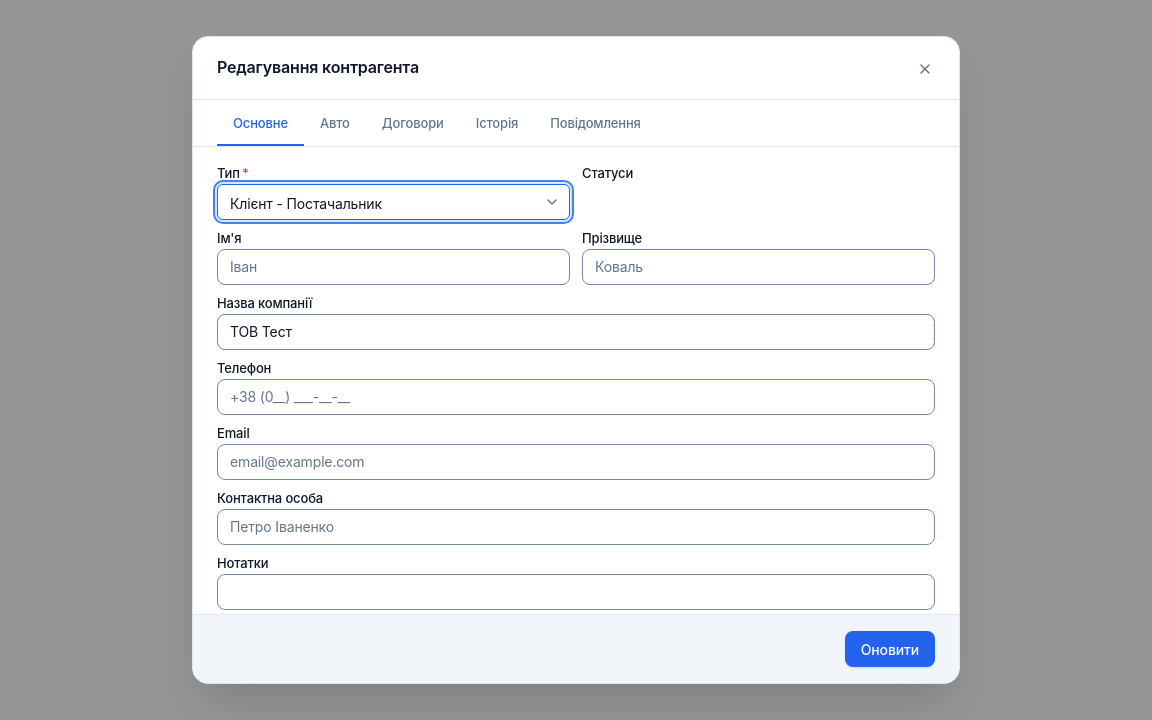
Test case: CounterpartyEditModal — «Вид договору» за типом контрагента (BR-CP-005) › BOTH → порожній placeholder + обидва види; без вибору «Зберегти» заблокована
Click the button "Договори" at (413, 125), box [366,104,460,146]
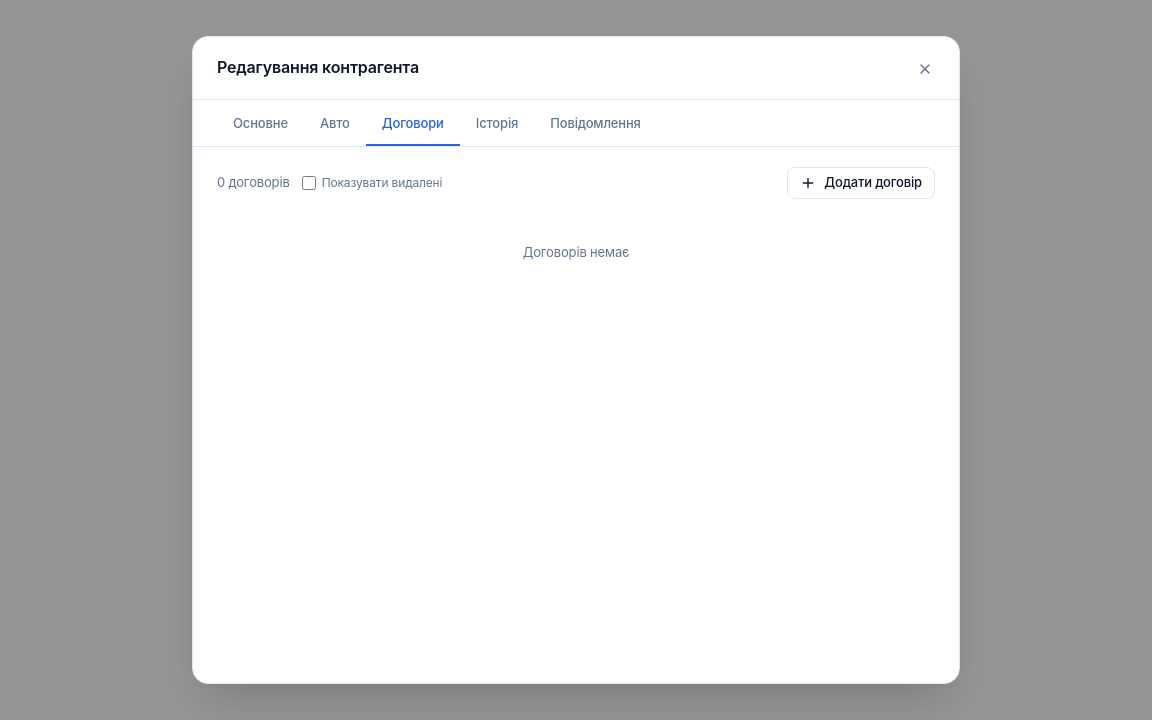
Expected: the button "Додати договір" is shown
Click the button "Додати договір" at (861, 182), box [787,166,935,198]
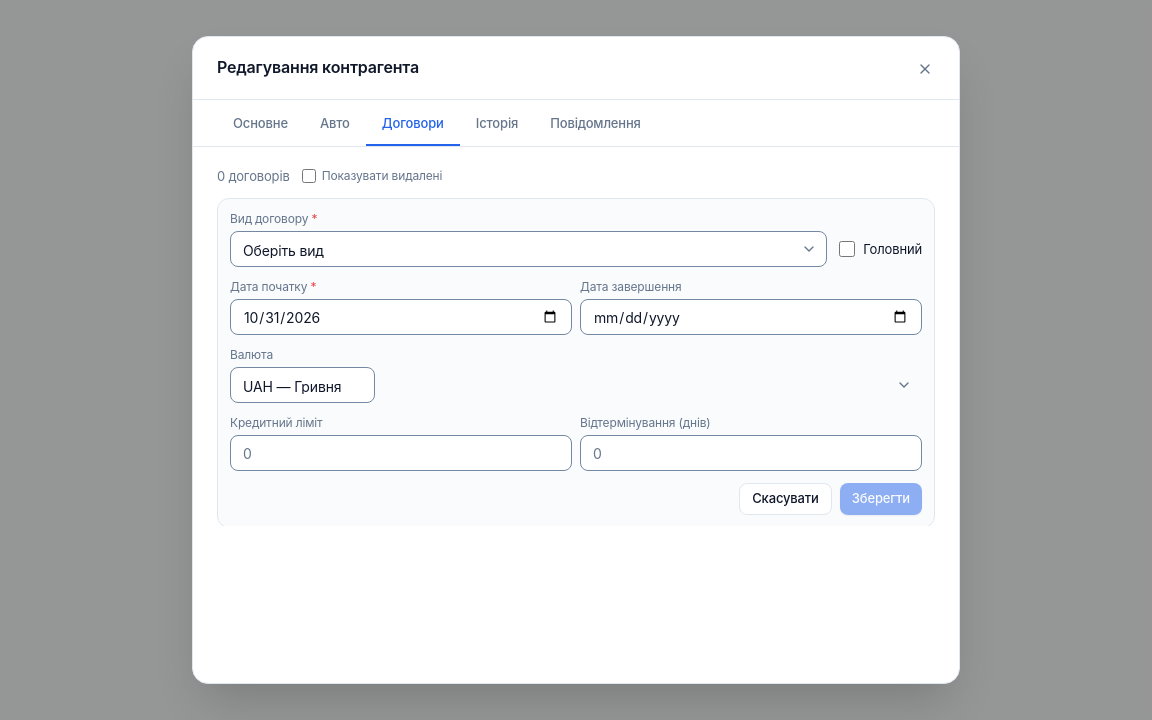
Expected: the dropdown below "Вид договору" shows "Оберіть вид"
Expected: the dropdown below "Вид договору" is enabled
Expected: the button "Зберегти" is disabled, [840,483,922,515]
Select "Продаж" in the dropdown below "Вид договору" at (529, 249), box [230,231,827,267]
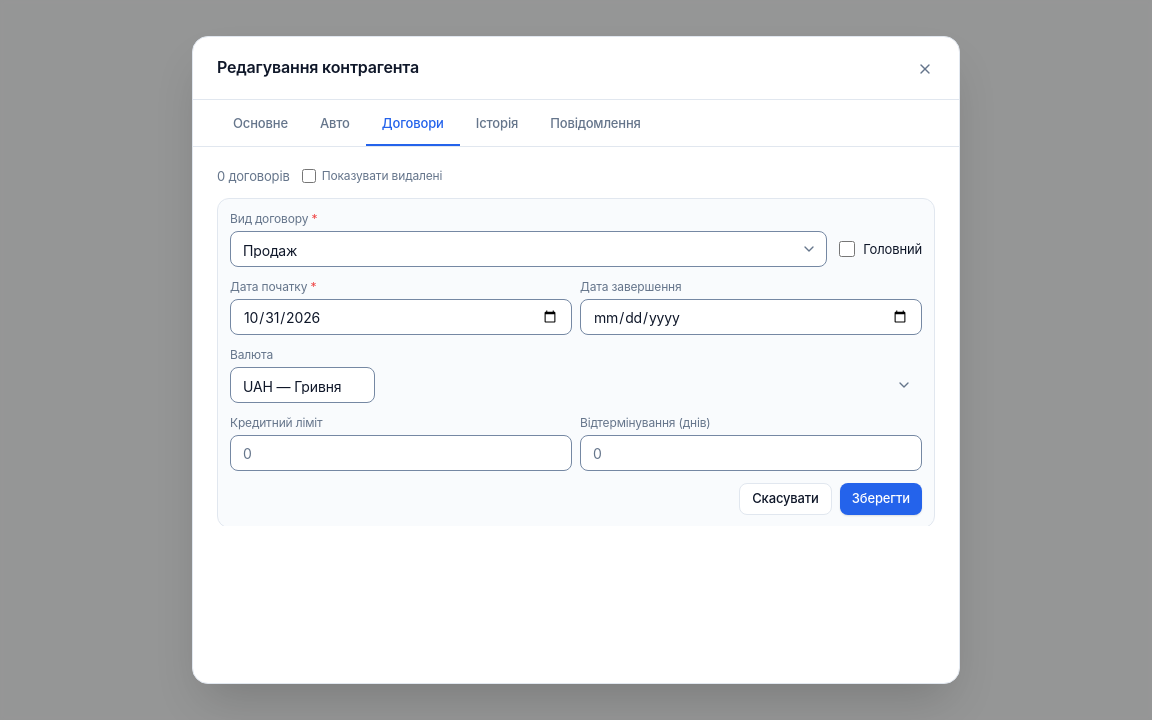
Expected: the button "Зберегти" is enabled, [840,483,922,515]
